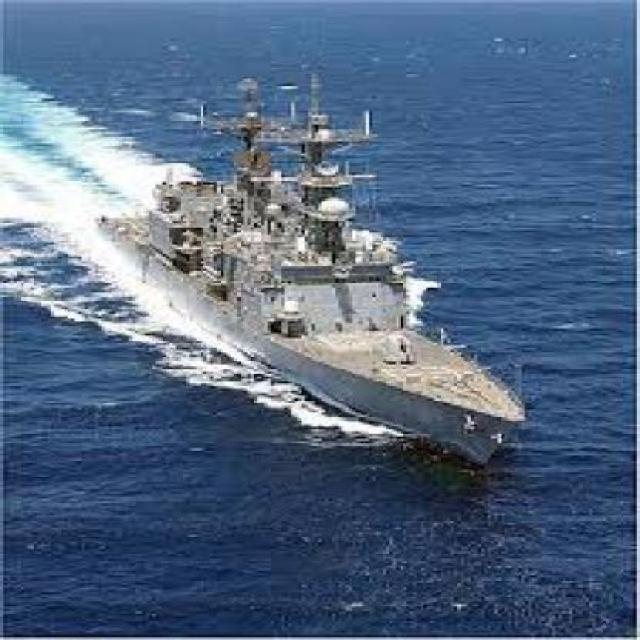no-oil: (386, 25, 639, 640), (23, 350, 322, 634)
